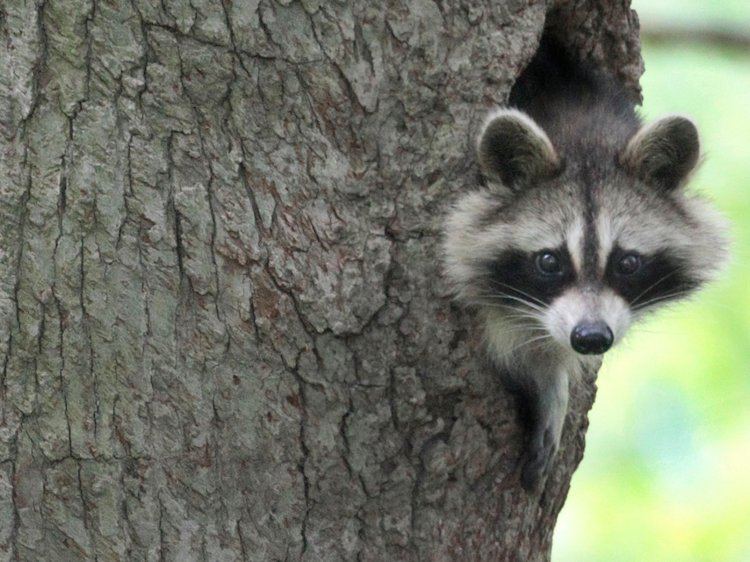raccoon: (459, 64, 720, 476)
